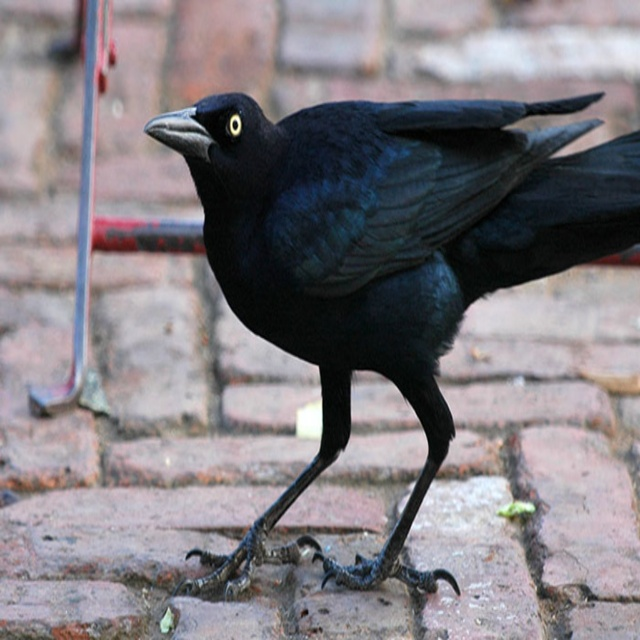Raven: (138, 77, 627, 585)
